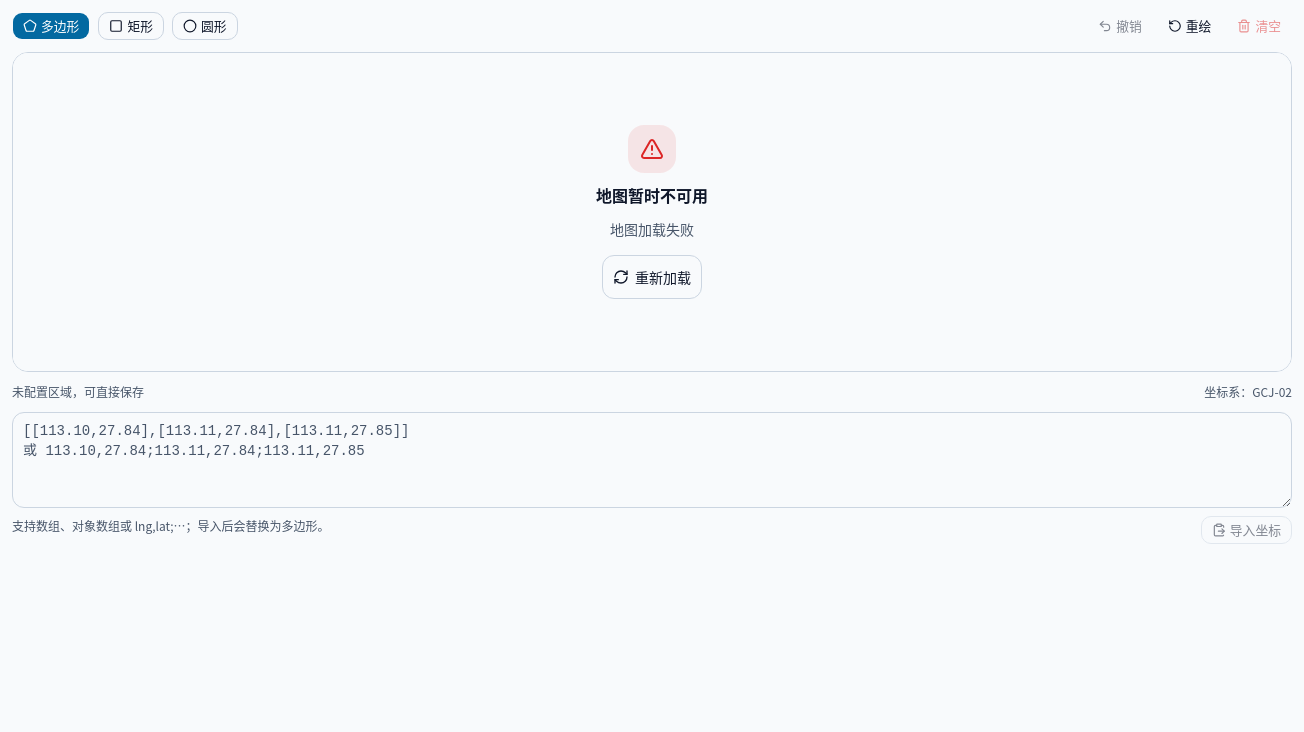
Test: AMapGeometryEditor drawing initialization › starts default drawing after retrying an initial map load failure
Click the button "重新加载".
click(652, 277)  # box [602, 255, 702, 299]
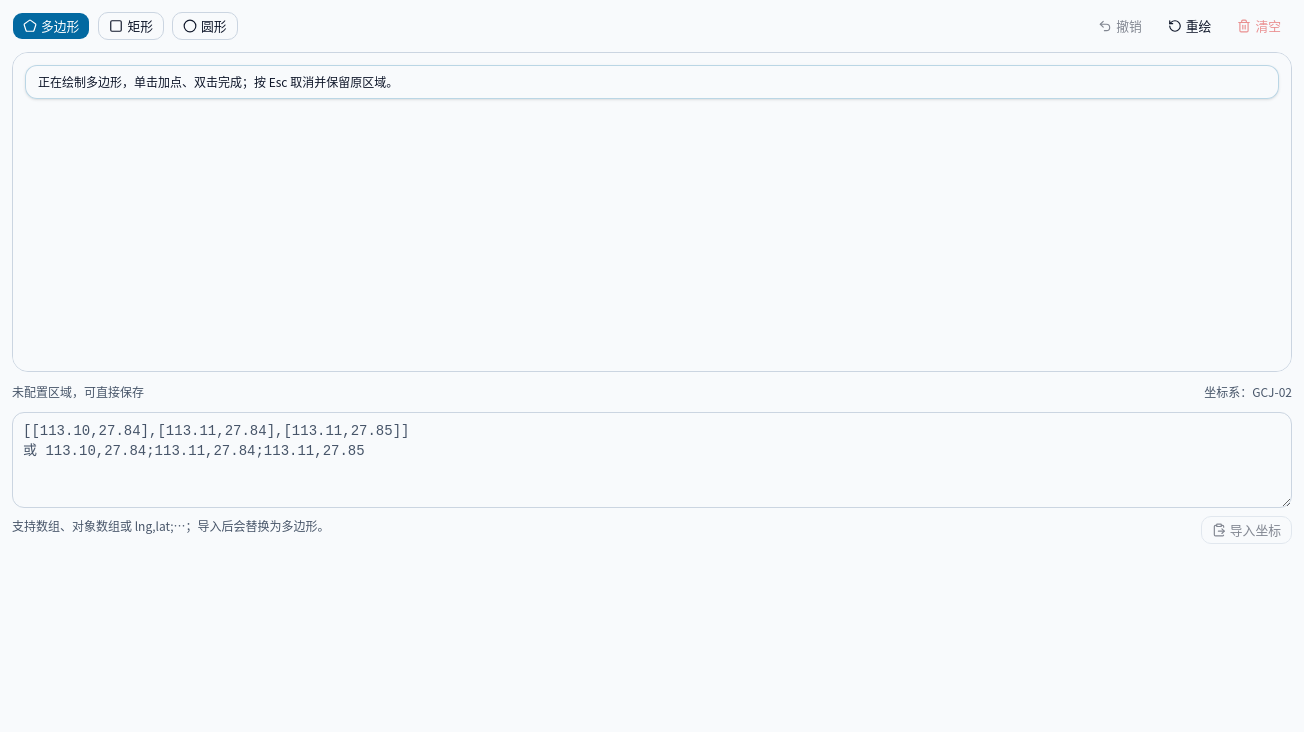
expect the text "正在绘制多边形" is shown: met, box [38, 73, 398, 90]
